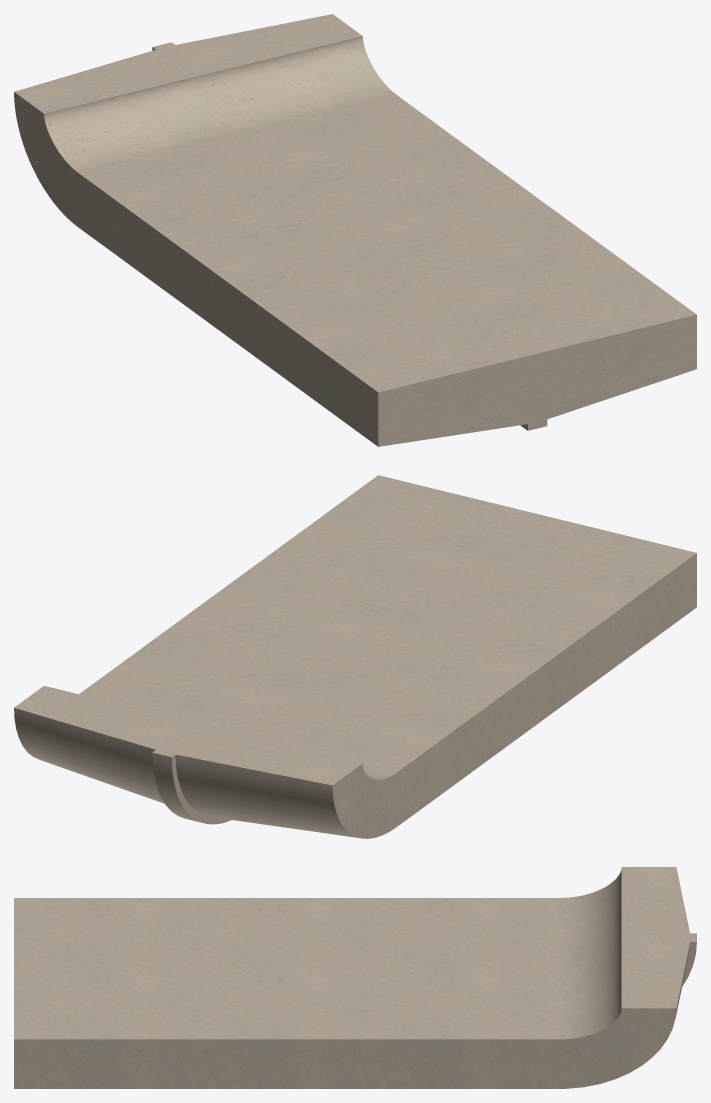
3 views of the same model, one above another, from view 1: azimuth 30°, elevation 25°; view 2: azimuth 150°, elevation 25°; view 3: azimuth 270°, elevation 25° (orthographic). The views are drawn at different scales.
Parts seen in each view (by area): view 1: F2.SLDPRT; view 2: F2.SLDPRT; view 3: F2.SLDPRT.
Part boxes in pixels (x1,y1,x2,y2): F2.SLDPRT: [14, 14, 696, 446]; F2.SLDPRT: [14, 475, 696, 838]; F2.SLDPRT: [14, 867, 696, 1088].
Bounding box in the file's own units: 0.245 × 0.0801 × 0.5001.
Materials: 1 (1 with a texture image).
